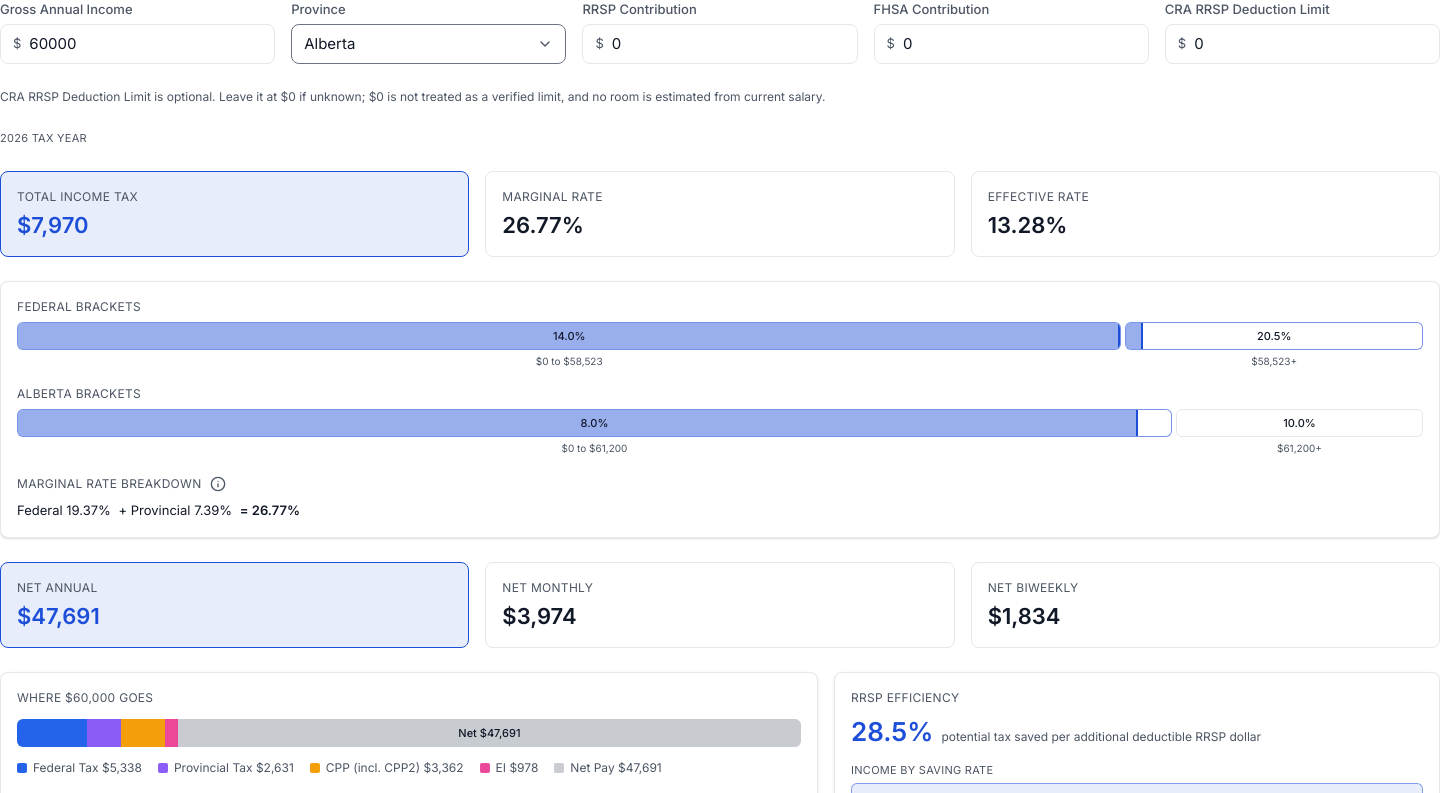
Test: SalaryTaxTool layout › omits a zero provincial marginal adjustment and identifies the taxable bracket income
This screenshot has width=1440, height=793.
Expected: the text "Federal 19.37%" is shown, [17, 502, 111, 518]
Expected: the text "+ Provincial 7.39%" is shown, [118, 502, 232, 518]
Click the button named "About brackets and marginal rates". click: (218, 484)
box: [206, 472, 230, 496]
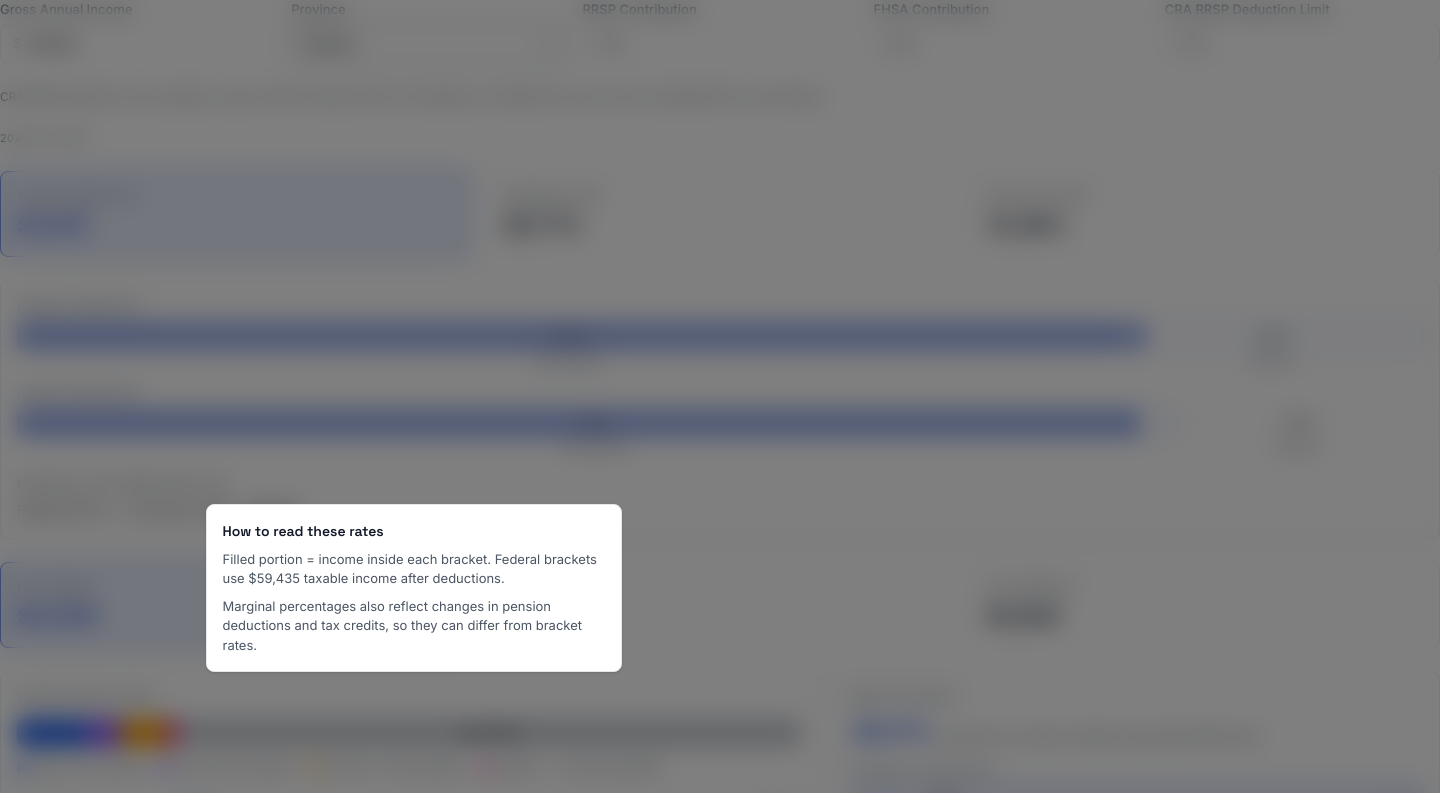
Expected: the dialog named "Brackets and marginal rates help" shows "Federal brackets use $59,435 taxable income", [206, 504, 622, 672]
